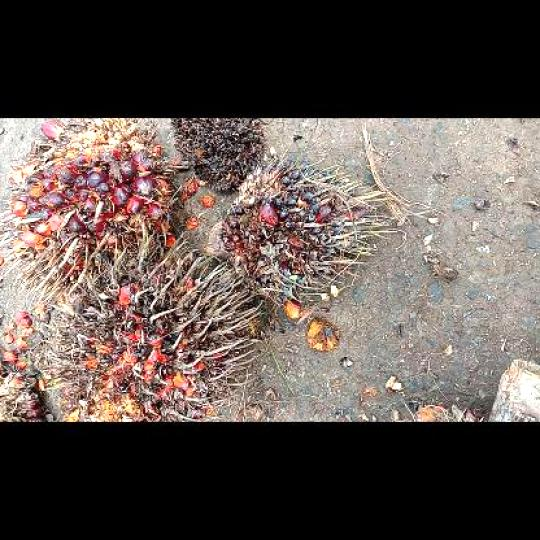masak: (12, 119, 188, 291)
terlalu masak: (54, 255, 265, 420)
